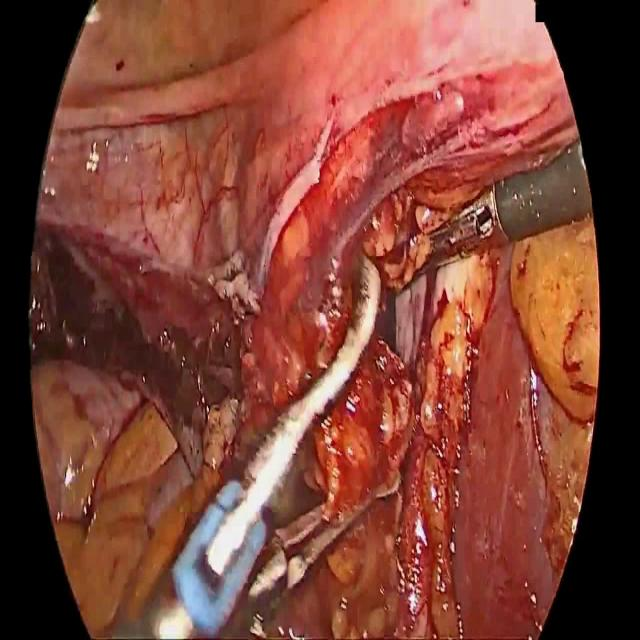surgical-area: (28, 0, 599, 639)
surgical-tool: (106, 252, 380, 639), (414, 137, 592, 276)
